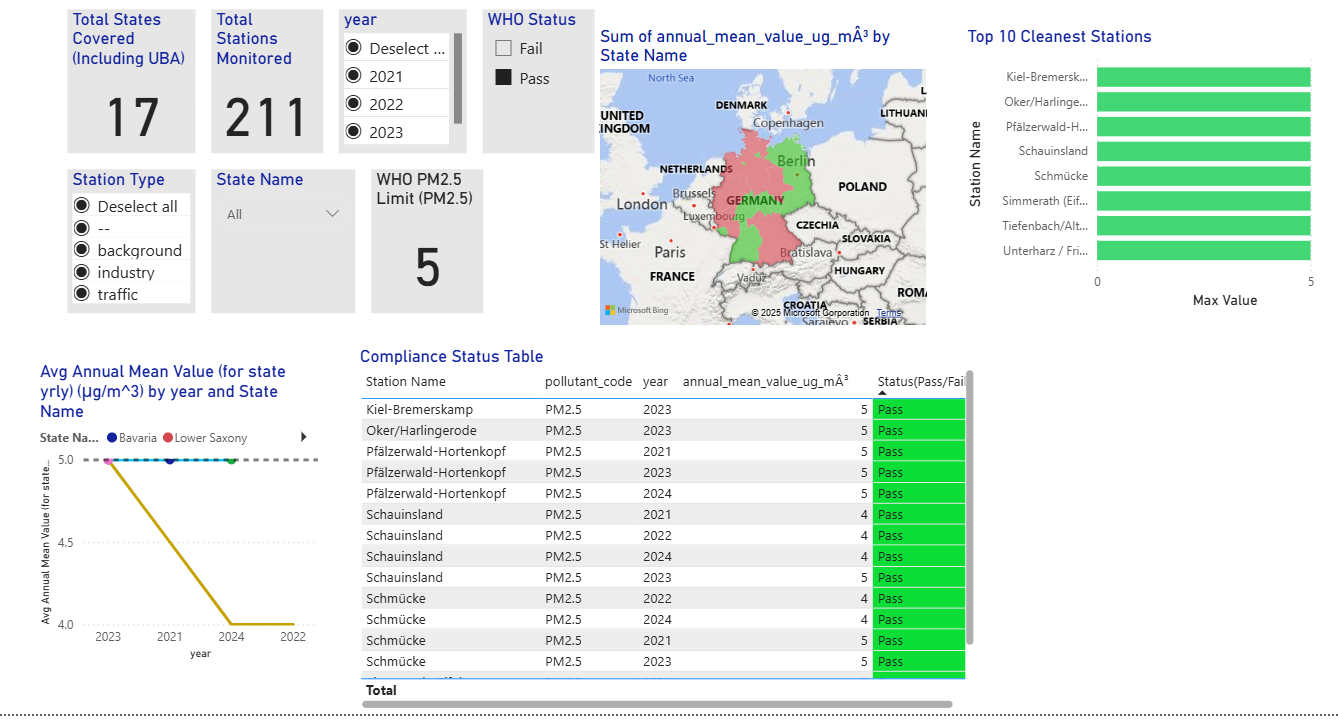

The page's visual inventory and layout, read from the dashboard file:
{"tool":"powerbi","page":{"name":"Page 1","canvas":[2000,721],"ordinal":0},"visuals":[{"type":"card","title":"Total States Covered (Including UBA)","fields":{"Values":["States.Total States Covered"]},"box":[112,16,128,144],"z":0},{"type":"card","title":"Total Stations Monitored","fields":{"Values":["Stations.Total Stations Monitored"]},"box":[256,16,112,144],"z":1000},{"type":"filledMap","fields":{"Category":["States.State Name"]},"box":[592,32,384,304],"z":3000},{"type":"actionButton","box":[0,0,100,40],"z":4000},{"type":"tableEx","title":"Compliance Status Table","fields":{"Values":["Stations.Station Name","Air_Quality_Data.pollutant_code","Air_Quality_Data.year","Air_Quality_Data.annual_mean_value_ug_mÂ³","Air_Quality_Data.Status(Pass/Fail)"]},"box":[400,352,624,368],"z":5000},{"type":"lineChart","fields":{"Category":["Air_Quality_Data.year"],"Series":["States.State Name"],"Y":["Air_Quality_Data.Avg Annual Mean Value (for state yrly) (μg/m^3)"]},"box":[80,368,288,304],"z":6000},{"type":"clusteredBarChart","title":"Top 10 Most Polluted Stations","fields":{"Y":["Air_Quality_Data.Max Value"],"Category":["Stations.Station Name"]},"box":[1056,416,368,304],"z":7000},{"type":"clusteredBarChart","title":"Top 10 Cleanest Stations","fields":{"Y":["Air_Quality_Data.Max Value"],"Category":["Stations.Station Name"]},"box":[1008,32,400,288],"z":8000},{"type":"listSlicer","fields":{"Values":["Air_Quality_Data.year"]},"box":[384,16,128,144],"z":9000},{"type":"listSlicer","fields":{"Values":["Stations.Station Type"]},"box":[112,176,128,144],"z":10000},{"type":"slicer","title":"State Name","fields":{"Values":["States.State Name"]},"box":[256,176,144,144],"z":11000},{"type":"card","title":"WHO PM2.5 Limit (PM2.5)","fields":{"Values":["Air_Quality_Data.PM2.5_Limit_WHO_2021 for Pass"]},"box":[416,176,112,144],"z":11001},{"type":"slicer","title":"WHO Status","fields":{"Values":["Air_Quality_Data.Status(Pass/Fail)"]},"box":[1632,224,112,144],"z":11002}]}

Visuals, with their boxes on the page's 2000x721 design canvas (x1, y1, x2, y2). These are canvas units, not pixel positions in the 1338x720 screenshot, which may show the page scaled, cropped or inside an application window:
"Total States Covered (Including UBA)" card: (112,16,240,160)
"Total Stations Monitored" card: (256,16,368,160)
filledMap - States.State Name: (592,32,976,336)
actionButton: (0,0,100,40)
"Compliance Status Table" tableEx: (400,352,1024,720)
lineChart - Air_Quality_Data.year x States.State Name: (80,368,368,672)
"Top 10 Most Polluted Stations" clusteredBarChart: (1056,416,1424,720)
"Top 10 Cleanest Stations" clusteredBarChart: (1008,32,1408,320)
listSlicer - Air_Quality_Data.year: (384,16,512,160)
listSlicer - Stations.Station Type: (112,176,240,320)
"State Name" slicer: (256,176,400,320)
"WHO PM2.5 Limit (PM2.5)" card: (416,176,528,320)
"WHO Status" slicer: (1632,224,1744,368)
